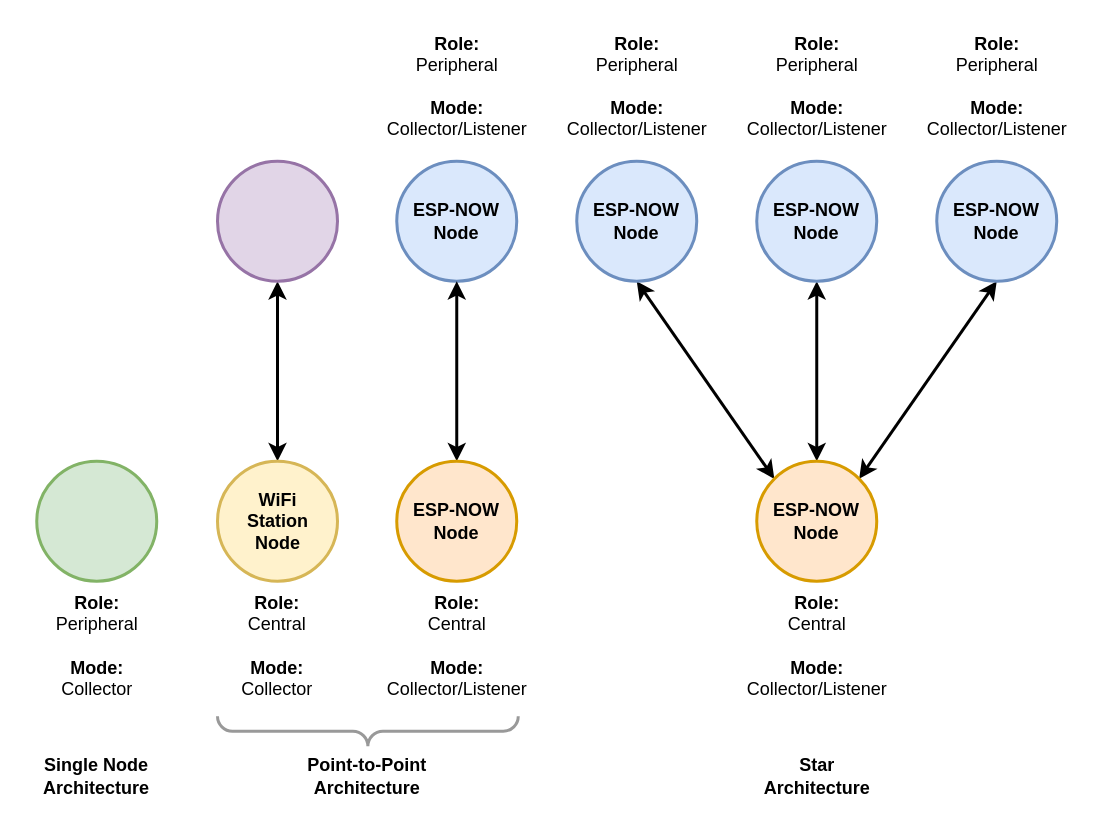
The diagram is 1094 pixels wide and 831 high, and some of its shapes have lost their labels. The shapes that lost their labels are listed below. From the top down, each one's centre as x and y in pixels, then its label:
At pixel 276 220: "Router or ESP AP".
At pixel 96 520: "WiFi Sniffer Node".
